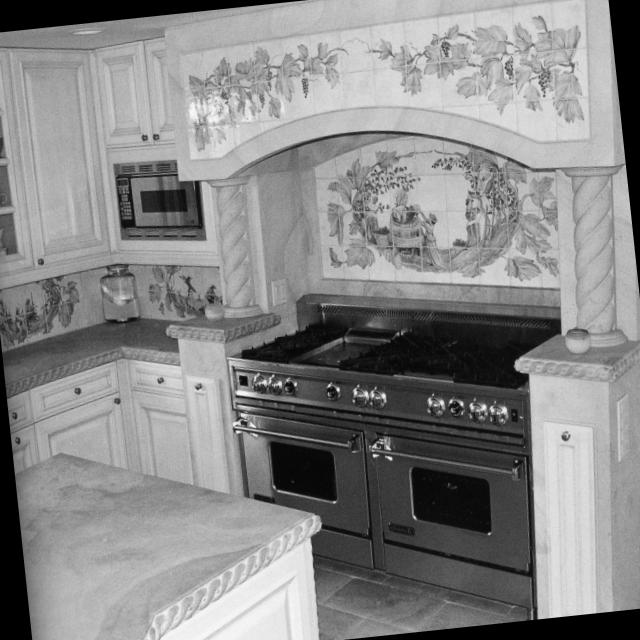counter: (4, 314, 179, 384)
oven cloth: (371, 430, 529, 601), (236, 408, 370, 567), (116, 159, 207, 238)
stove burner: (237, 318, 529, 386)
